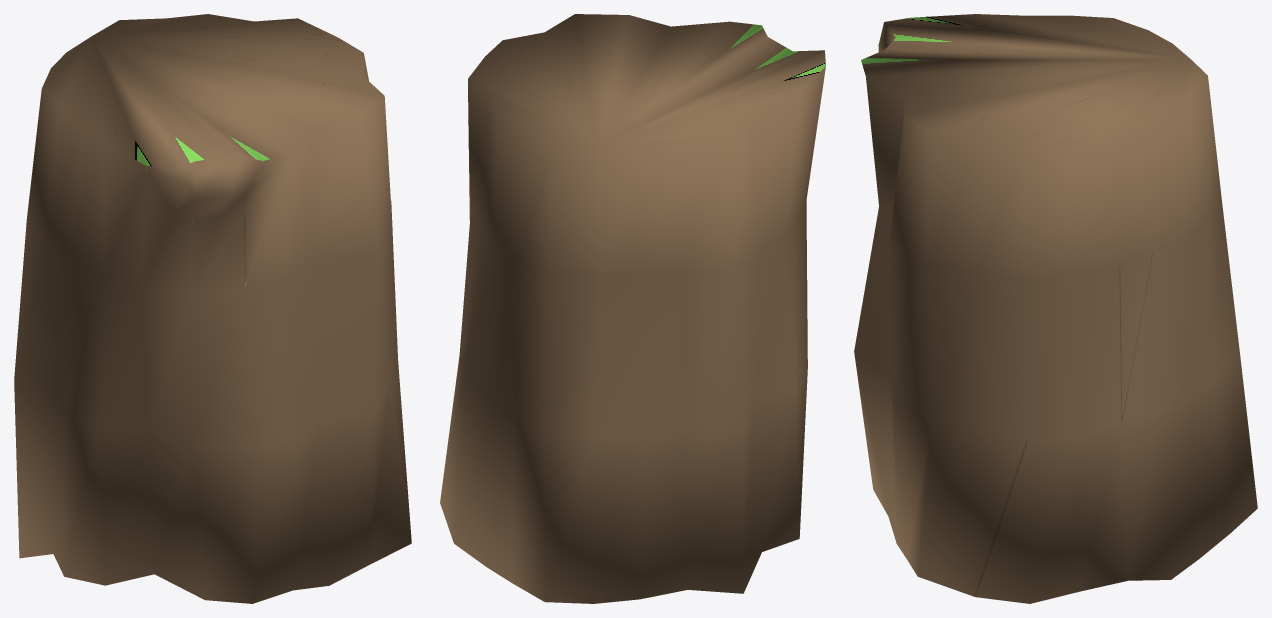
File: Tree_cut.fbx
The picture shows the model from 3 angles, left to right: view 1: azimuth 30°, elevation 25°; view 2: azimuth 150°, elevation 25°; view 3: azimuth 270°, elevation 25°; orthographic projection. The views are drawn at different scales.
Visible parts, largest first — view 1: Tree_Cut; view 2: Tree_Cut; view 3: Tree_Cut.
Part boxes in pixels (x1,y1,x2,y2): Tree_Cut: (14,14,411,603); Tree_Cut: (440,14,825,603); Tree_Cut: (854,14,1257,603).
Size of the model in its own units: 344 by 468 by 378.
